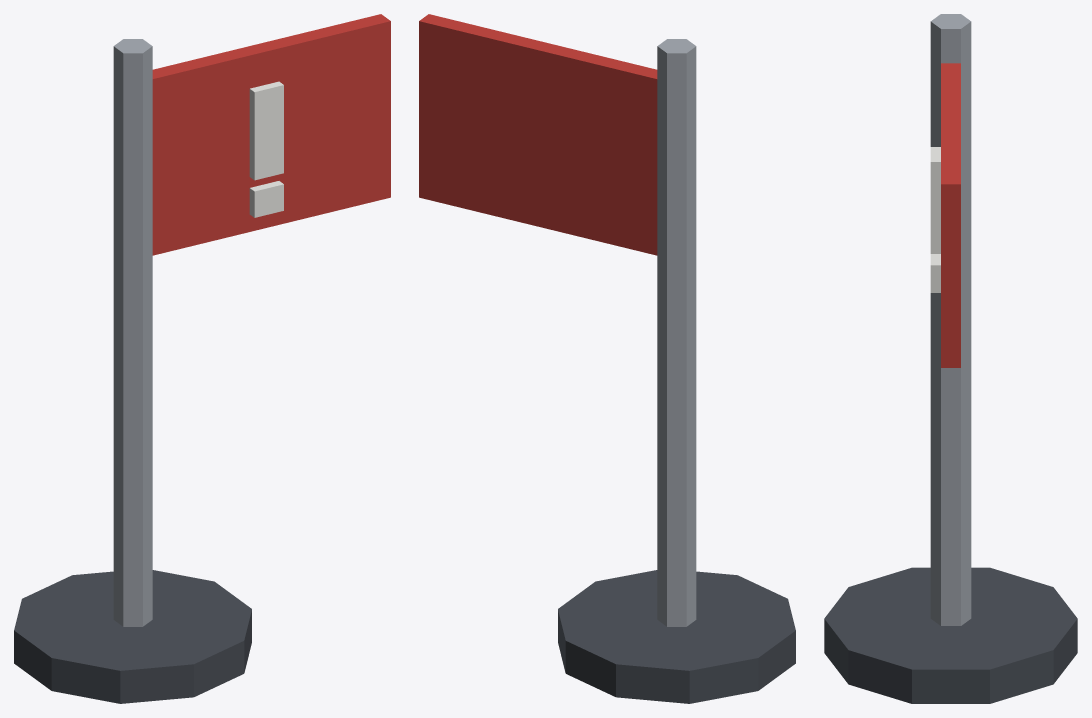
Rendered from prop_replyall_p0.glb.
3 renders of one model, left to right at view 1: azimuth 30°, elevation 25°; view 2: azimuth 150°, elevation 25°; view 3: azimuth 270°, elevation 25°, orthographic. The views are drawn at different scales.
Parts seen in each view (by area): view 1: prop_replyall_p0_mesh; view 2: prop_replyall_p0_mesh; view 3: prop_replyall_p0_mesh.
Part boxes in pixels (left/top/right/bottom): prop_replyall_p0_mesh: left=14, top=14, right=390, bottom=703; prop_replyall_p0_mesh: left=419, top=14, right=795, bottom=703; prop_replyall_p0_mesh: left=824, top=14, right=1077, bottom=703.
Bounding box in the file's own units: 0.1676 × 0.275 × 0.1.
